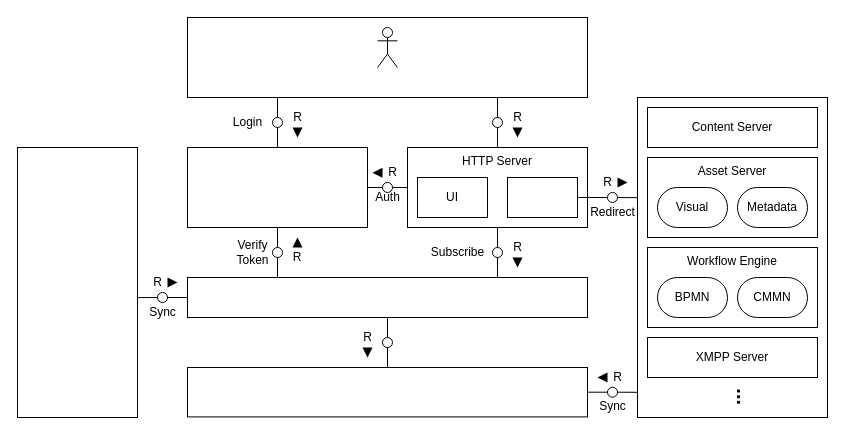
Some shapes in this 845 by 435 pixel diagram are drawn without their labels. The centre of each missing label's shape, as x and y in pixels:
"ERP" belongs at point (77, 282).
"Identitiy Management" belongs at point (277, 187).
"NoSQL DB" belongs at point (387, 391).
"Proxy" belongs at point (542, 197).
"Stream Server" belongs at point (387, 297).
"User" belongs at point (387, 47).
